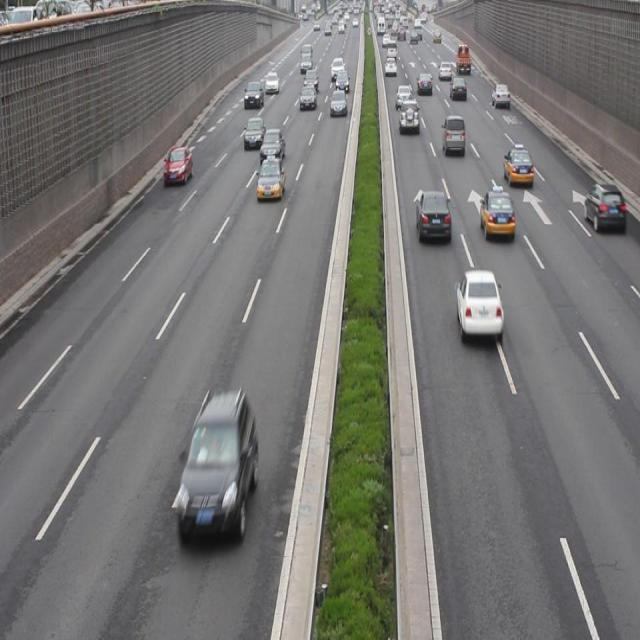car: (176, 391, 258, 544), (455, 268, 504, 344), (582, 182, 624, 230), (414, 192, 450, 244), (479, 189, 512, 240), (503, 142, 531, 190), (256, 156, 283, 201), (164, 144, 193, 185), (259, 127, 283, 163), (398, 97, 419, 135), (242, 116, 264, 148)
truck: (442, 112, 464, 155)
